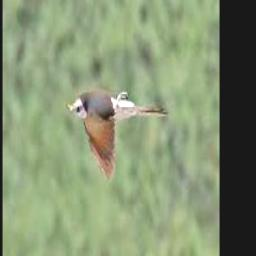Cuckoo: (67, 91, 168, 182)
